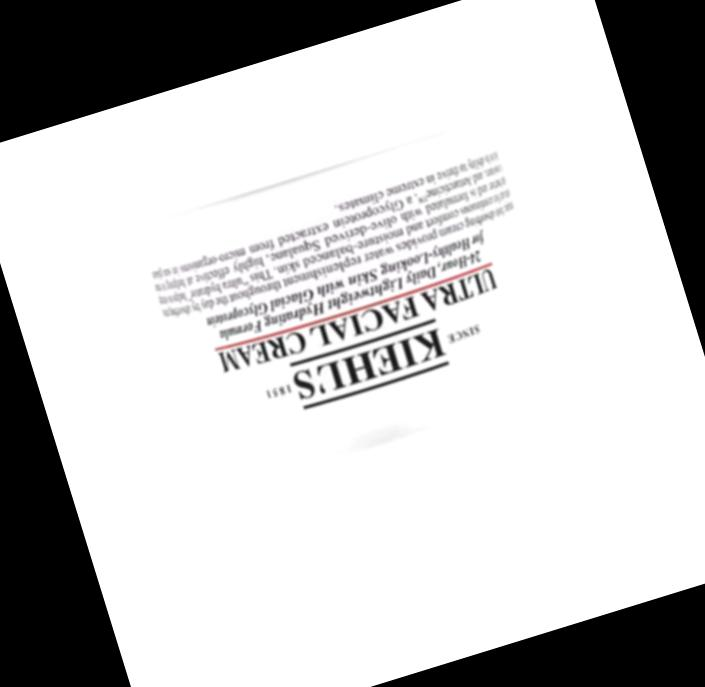cosmetic: (132, 113, 589, 528)
